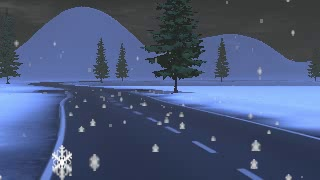Lane: (33, 81, 319, 179)
